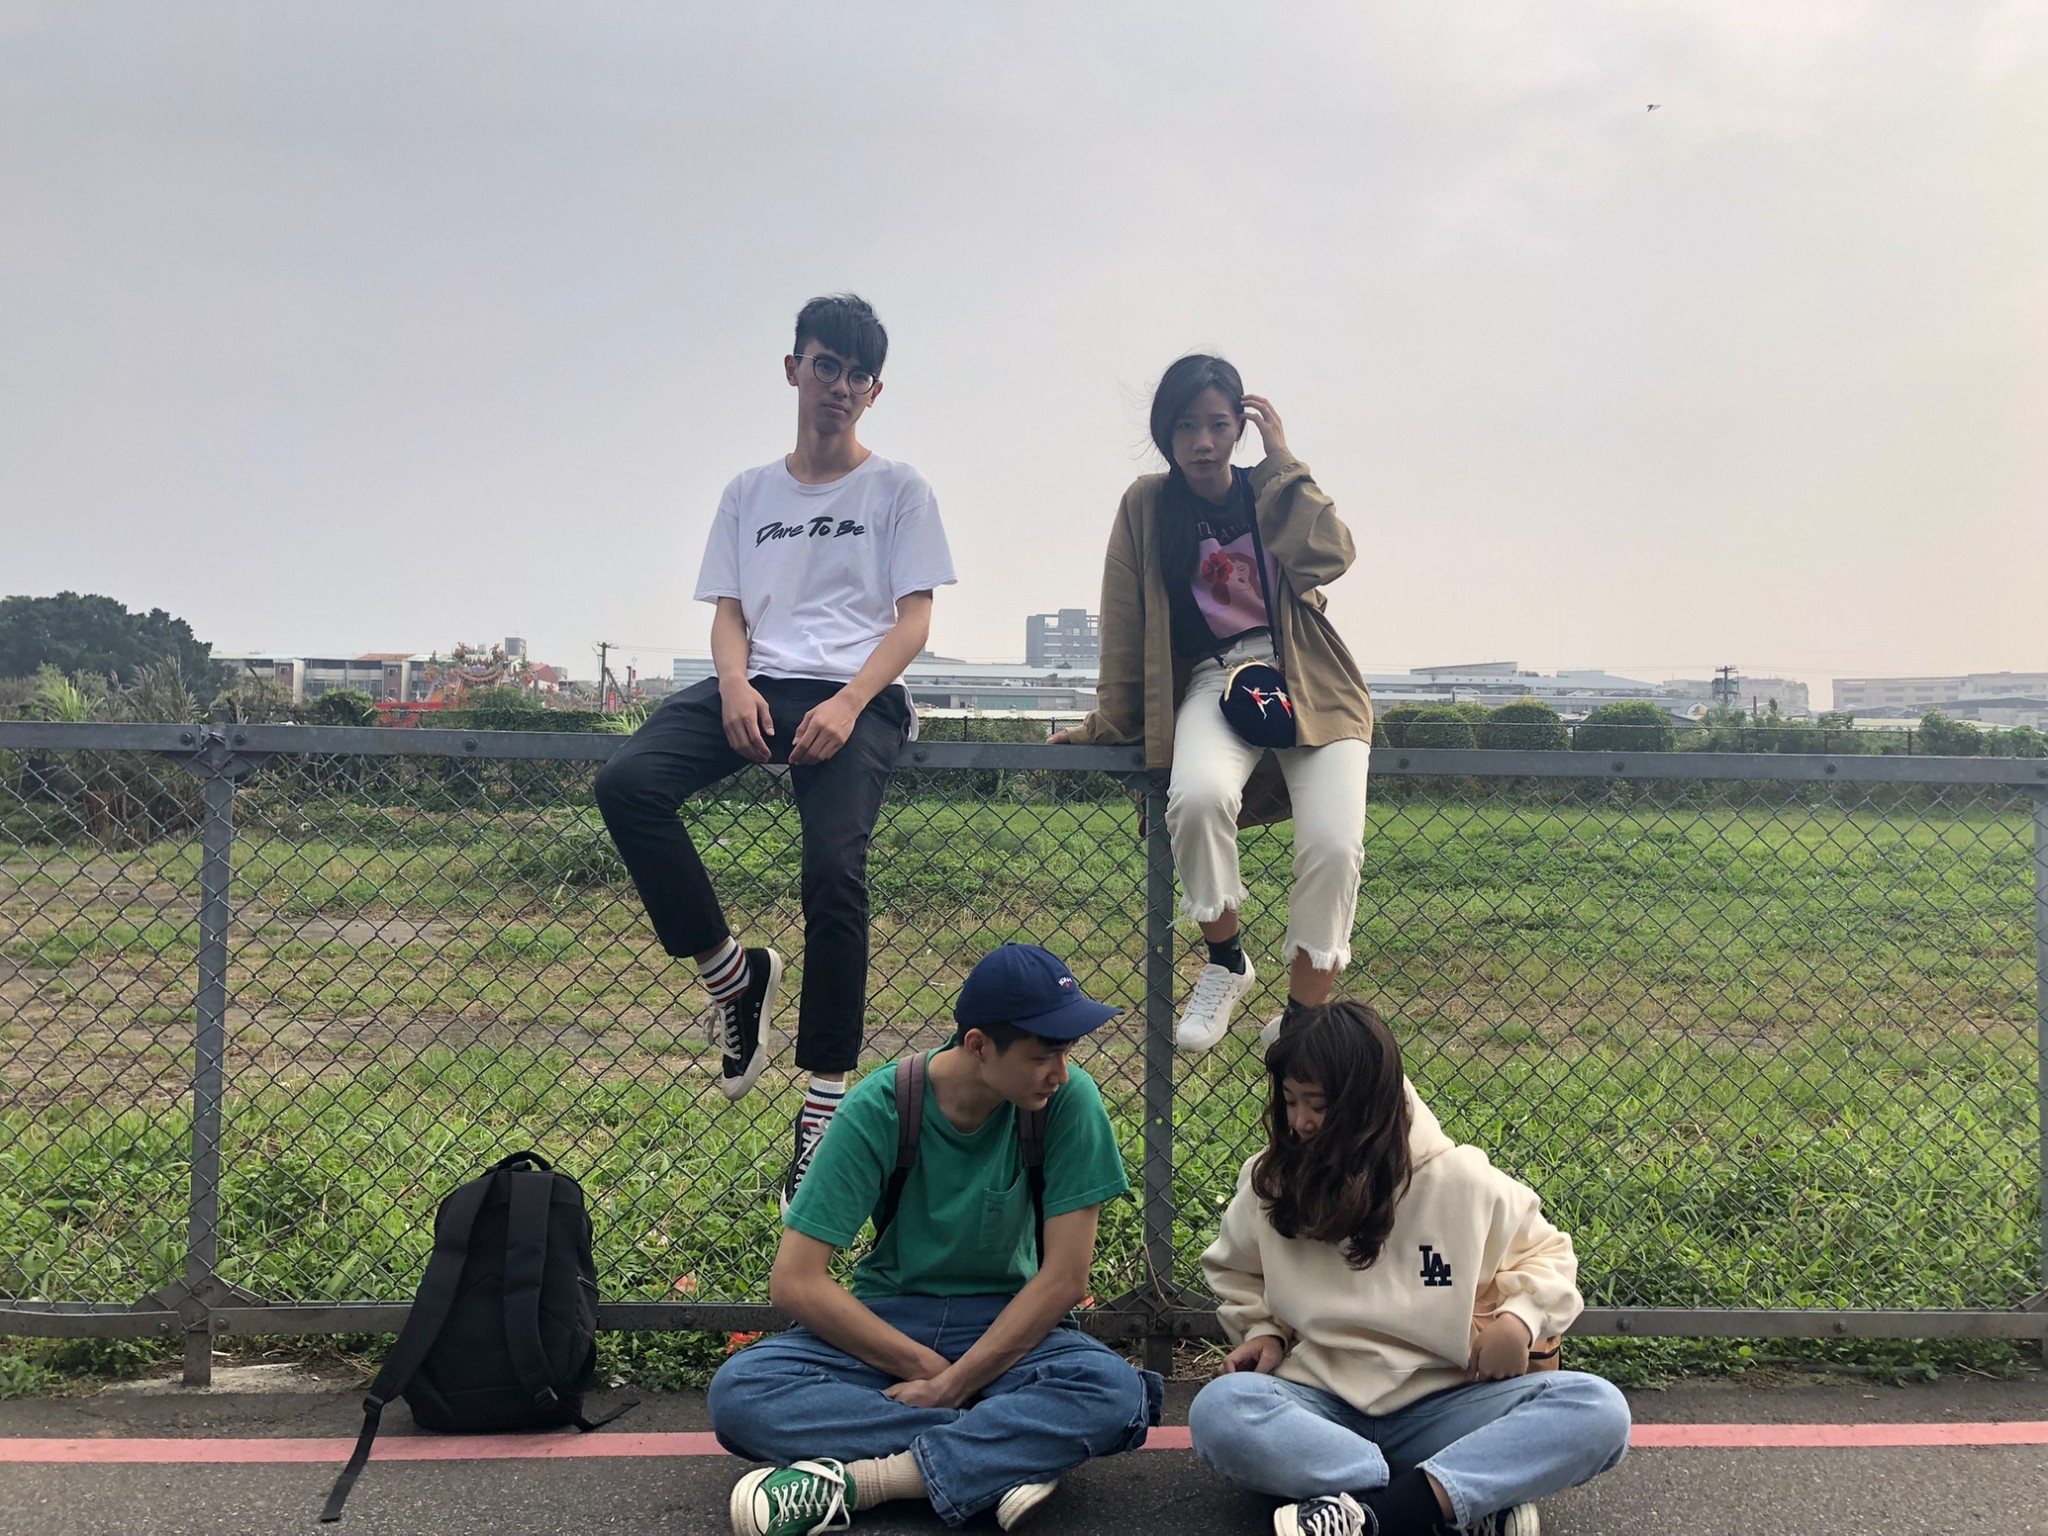people: (787, 949, 1140, 1536), (681, 296, 907, 1169), (1110, 349, 1387, 1040), (1237, 1002, 1563, 1536)
